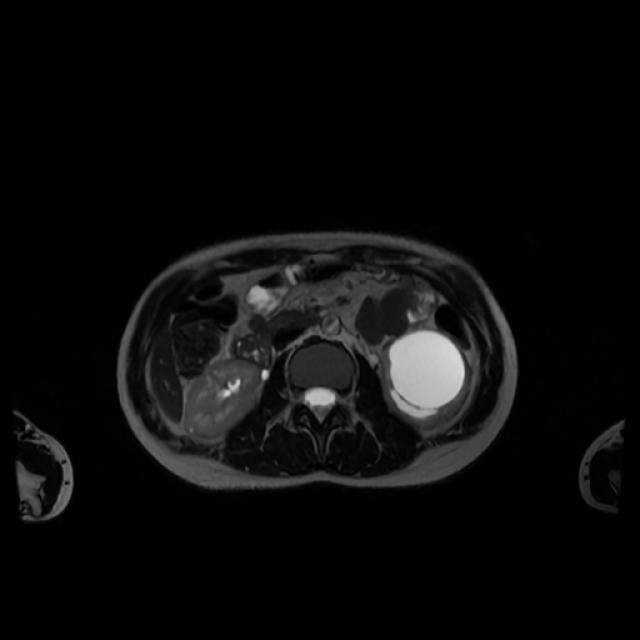sag: (183, 354, 270, 436)
sol: (380, 327, 474, 431)
